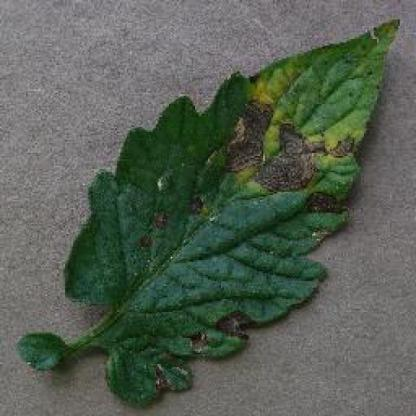Tomato_Blight: (67, 16, 404, 407)
